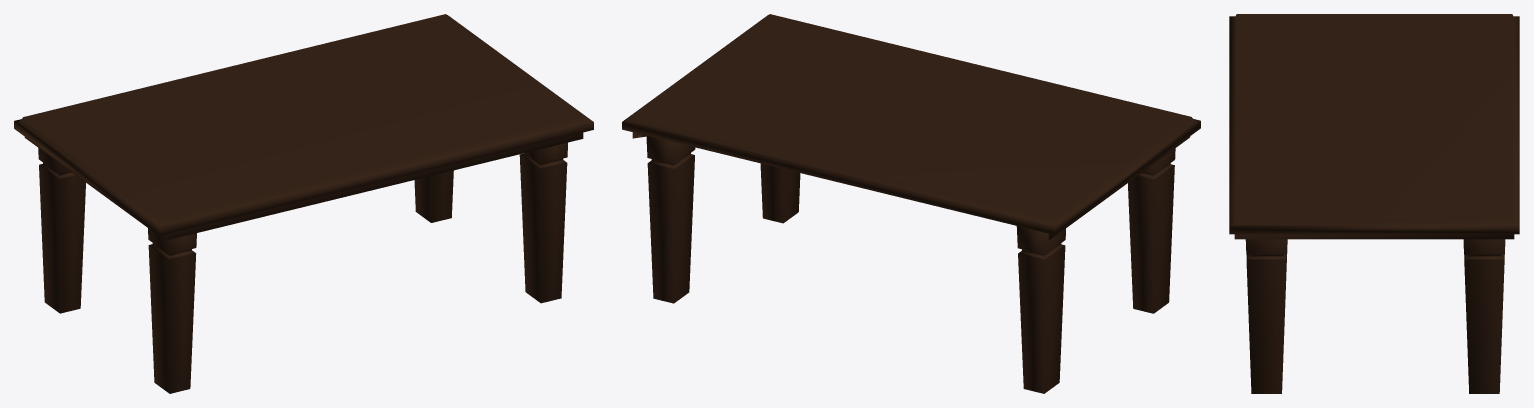
Rendered from KitchenTable.fbx.
3 renders of one model, left to right at view 1: azimuth 30°, elevation 25°; view 2: azimuth 150°, elevation 25°; view 3: azimuth 270°, elevation 25°, orthographic.
Visible parts, largest first — view 1: pCube15, pCube18, pCube19; view 2: pCube15, pCube18, pCube19; view 3: pCube15, pCube19.
Part boxes in pixels (x1,y1,x2,y2): pCube15: [14, 14, 593, 240]; pCube18: [38, 148, 196, 393]; pCube19: [414, 142, 567, 303]; pCube15: [622, 14, 1200, 239]; pCube18: [1016, 148, 1175, 393]; pCube19: [646, 135, 800, 303]; pCube15: [1229, 14, 1519, 239]; pCube19: [1245, 239, 1505, 393].
Bounding box in the file's own units: 4.98 × 2.02 × 2.9.
